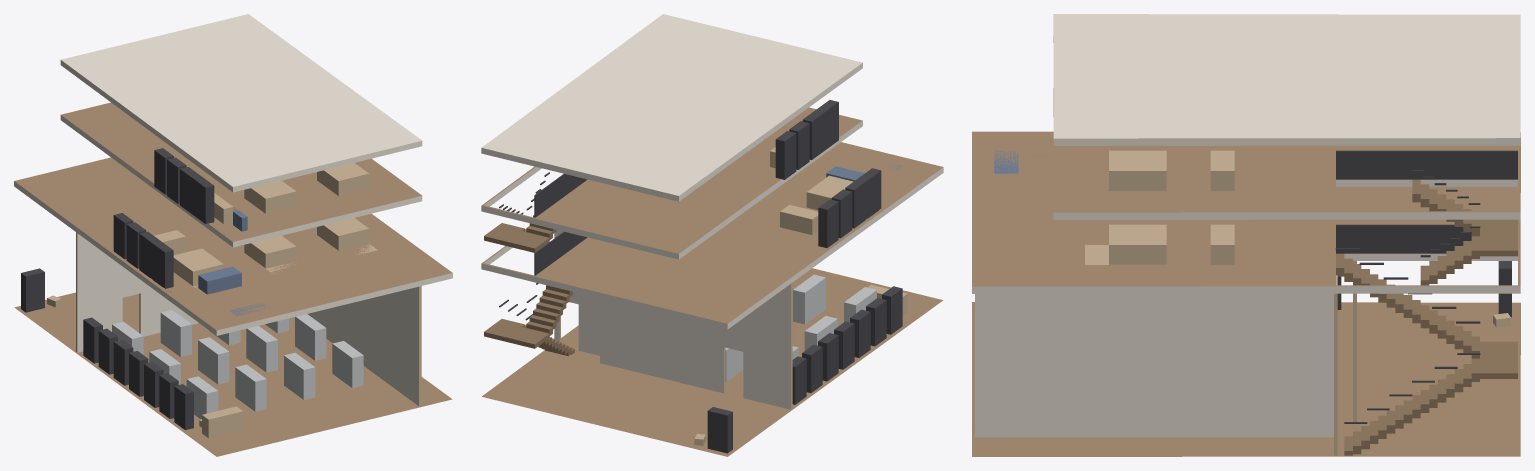
Rendered from interior.glb.
3 renders of one model, left to right at view 1: azimuth 30°, elevation 25°; view 2: azimuth 150°, elevation 25°; view 3: azimuth 270°, elevation 25°, orthographic. The views are drawn at different scales.
Parts seen in each view (by area): view 1: slabs, coarse-s0, partitions, coarse-s1, coarse-s2; view 2: slabs, partitions, coarse-s0, stair, coarse-s1, coarse-s2; view 3: slabs, partitions, stair, coarse-s1, coarse-s2, coarse-s0.
Part boxes in pixels (box(x1,y1,x2,y2)): slabs: box(14, 14, 452, 456); coarse-s0: box(21, 268, 363, 438); partitions: box(76, 232, 421, 406); coarse-s1: box(113, 213, 377, 316); coarse-s2: box(154, 148, 369, 231); slabs: box(481, 14, 943, 456); partitions: box(554, 230, 792, 409); coarse-s0: box(694, 274, 907, 453); stair: box(484, 172, 587, 356); coarse-s1: box(780, 162, 903, 248); coarse-s2: box(770, 100, 838, 179); slabs: box(972, 14, 1520, 456); partitions: box(975, 261, 1356, 455); stair: box(1335, 150, 1517, 455); coarse-s1: box(994, 150, 1234, 264); coarse-s2: box(1109, 150, 1234, 190); coarse-s0: box(1337, 261, 1511, 327).
Bounding box in the file's own units: 11.68 × 11.2 × 17.47.
